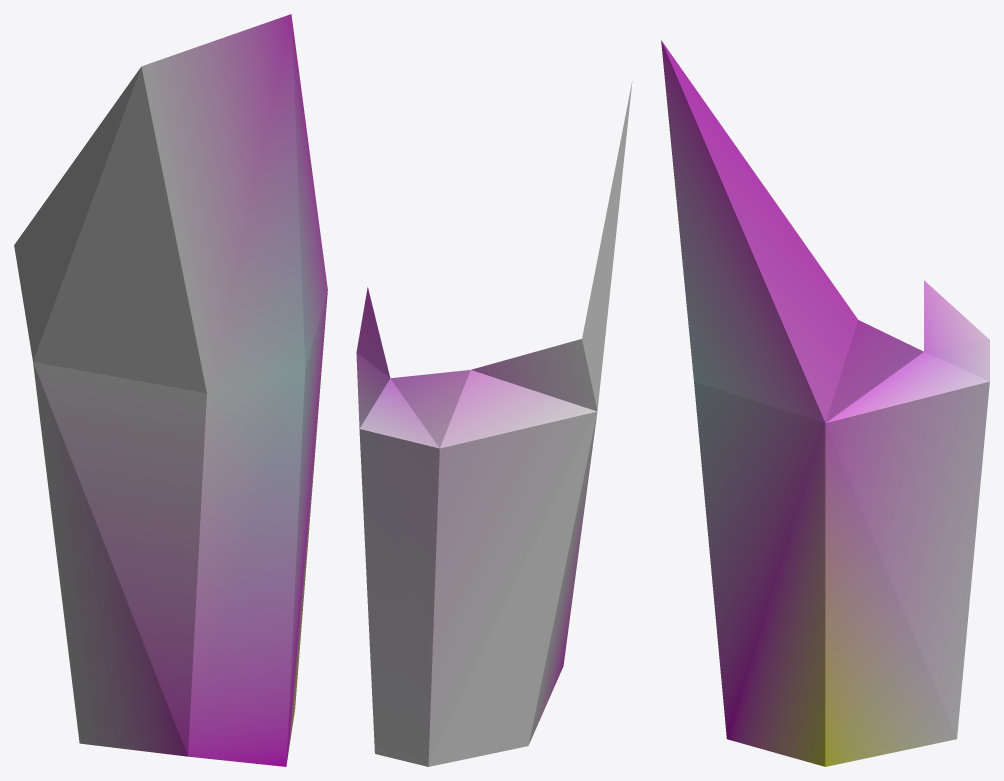
The picture shows the model from 3 angles, left to right: view 1: azimuth 30°, elevation 25°; view 2: azimuth 150°, elevation 25°; view 3: azimuth 270°, elevation 25°; orthographic projection. The views are drawn at different scales.
Parts seen in each view (by area): view 1: model_11B0; view 2: model_11B0; view 3: model_11B0.
Boxes of the visible parts, left/top/right/bottom form: model_11B0: left=14, top=14, right=327, bottom=766; model_11B0: left=356, top=81, right=632, bottom=766; model_11B0: left=661, top=40, right=989, bottom=766.
Size of the model in its own units: 9 by 23 by 10.
